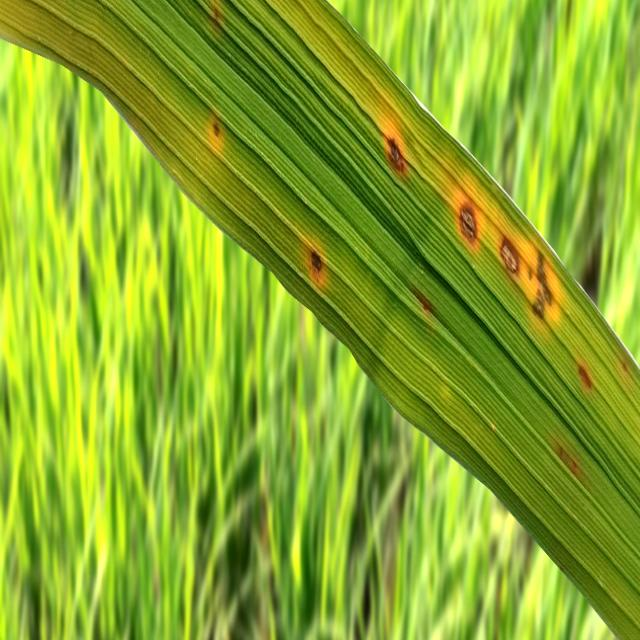LEAF BLAST: (385, 132, 407, 175), (500, 236, 520, 277), (459, 203, 477, 244), (312, 252, 322, 276)
